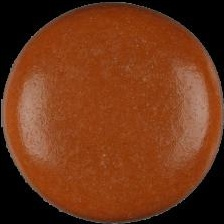0832-0304: (0, 0, 224, 224)
